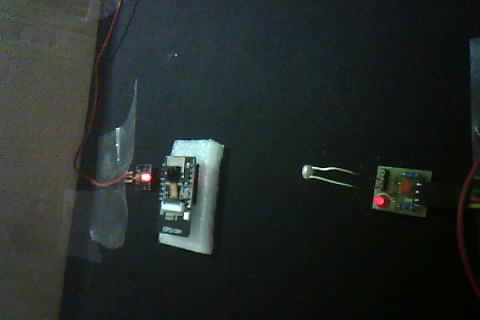esp32: (154, 139, 223, 248)
